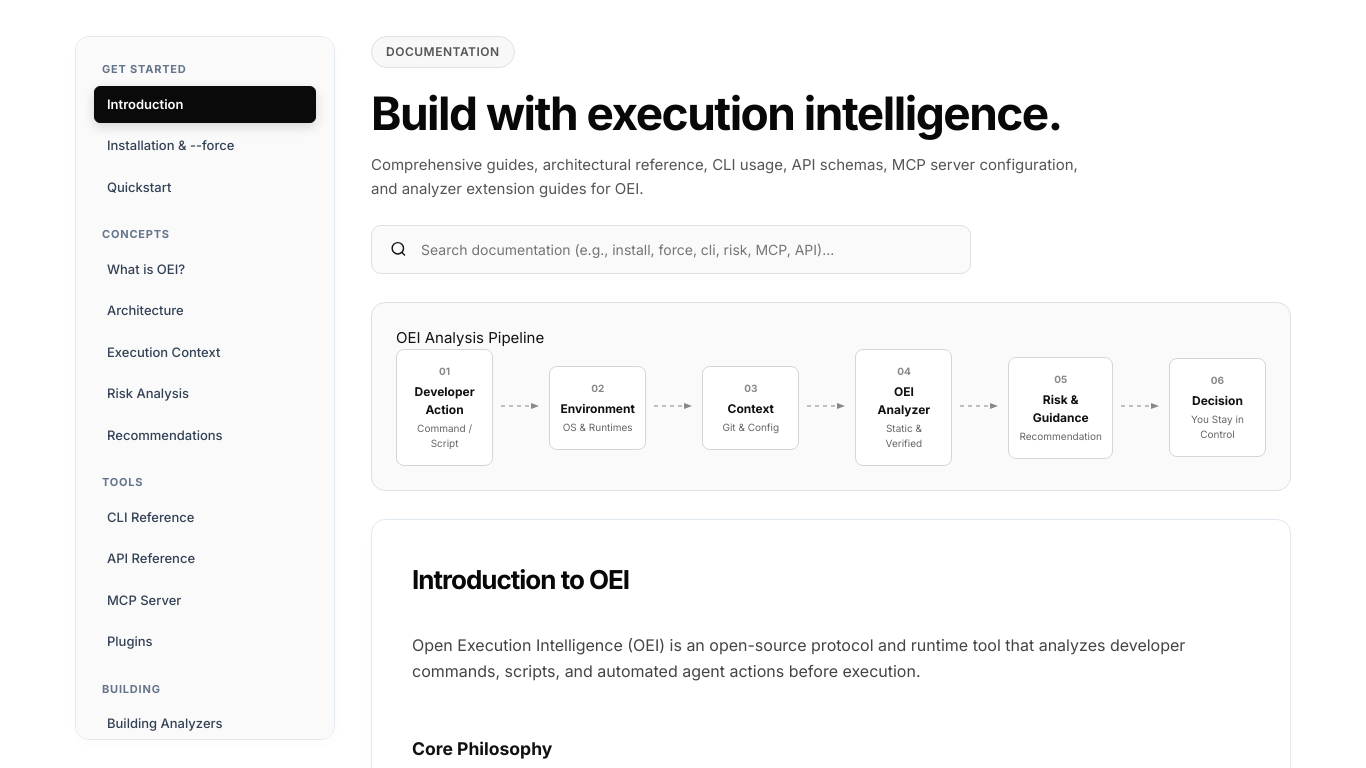
DocsPage › renders the dedicated article for Quickstart
The image size is (1366, 768).
Click the button "Quickstart": coordinates (205, 187) 94,168 -> 316,206
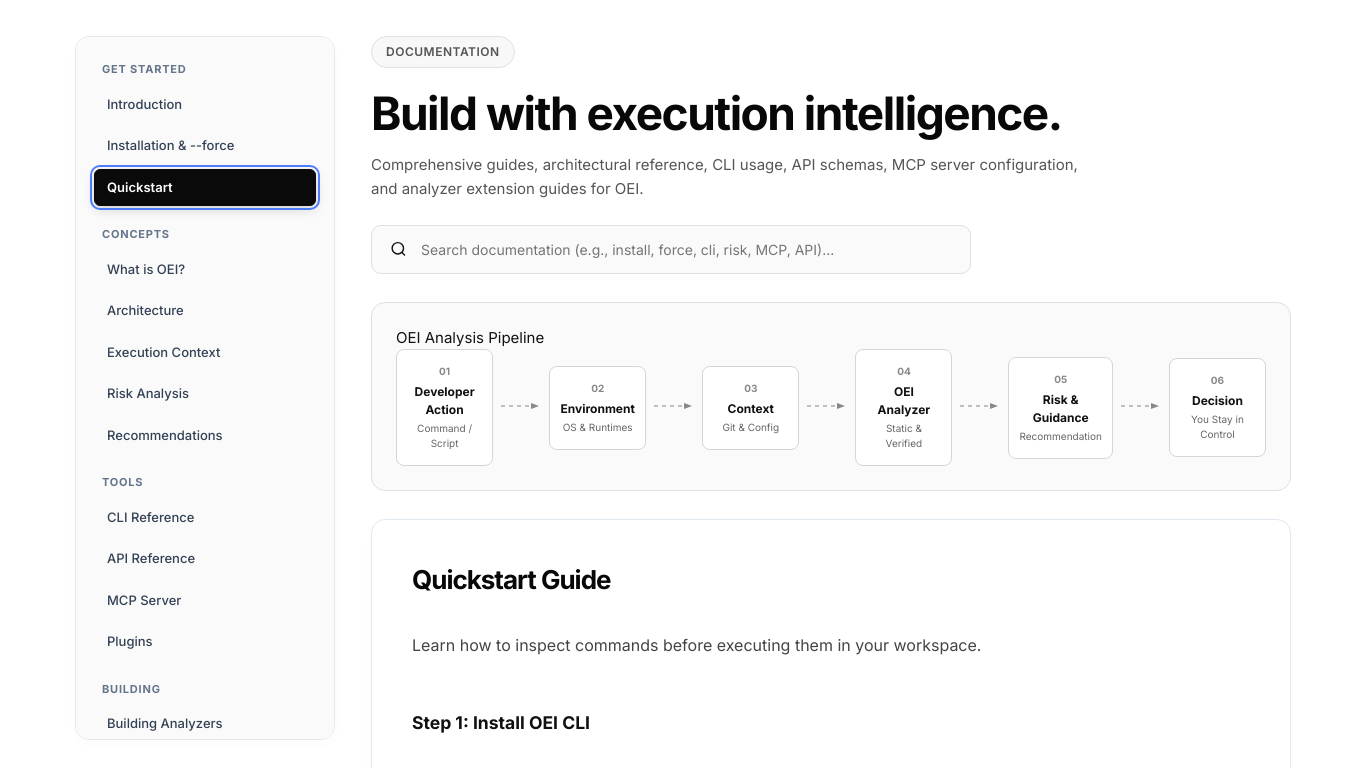
expect the heading "Quickstart Guide" is shown: met, box 412,564 -> 610,595
expect the heading "Introduction to OEI" is gone: met
